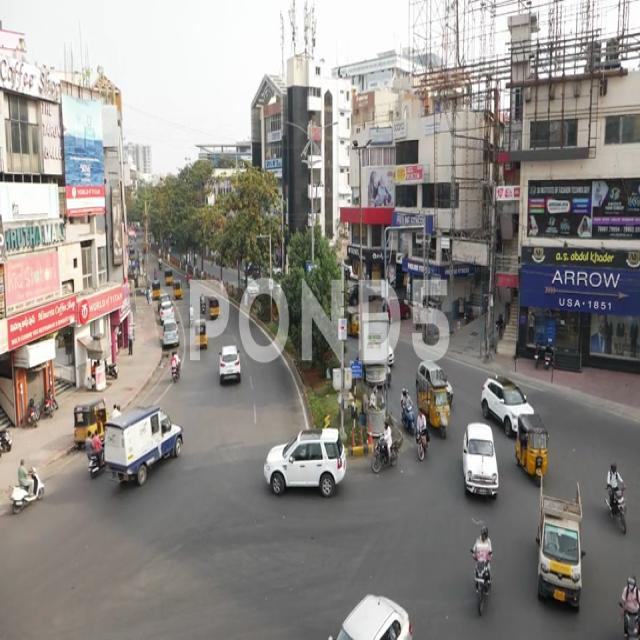cab: (464, 423, 496, 500)
car: (260, 429, 346, 501), (217, 342, 243, 385)
motorbike: (468, 519, 492, 619), (602, 455, 630, 536), (12, 457, 46, 510)
rikshaw: (515, 411, 549, 481)
truck: (106, 390, 187, 503), (535, 476, 583, 621), (417, 362, 449, 441)
